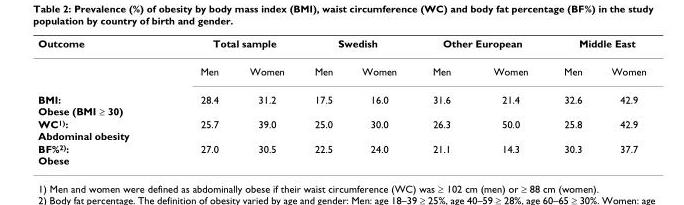table: (37, 36, 645, 166)
table column: (37, 36, 164, 166), (471, 36, 545, 166), (164, 36, 233, 166), (346, 36, 413, 166), (233, 36, 298, 166), (413, 36, 471, 166), (545, 36, 596, 166), (596, 36, 645, 166), (298, 36, 346, 166)
table column header: (37, 36, 645, 85)
table row: (37, 85, 645, 117), (37, 57, 645, 85), (37, 141, 645, 166), (37, 117, 645, 141), (37, 36, 645, 57)
table spanning cell: (37, 36, 164, 85), (164, 36, 298, 57), (413, 36, 545, 57), (298, 36, 413, 57), (545, 36, 645, 57)
